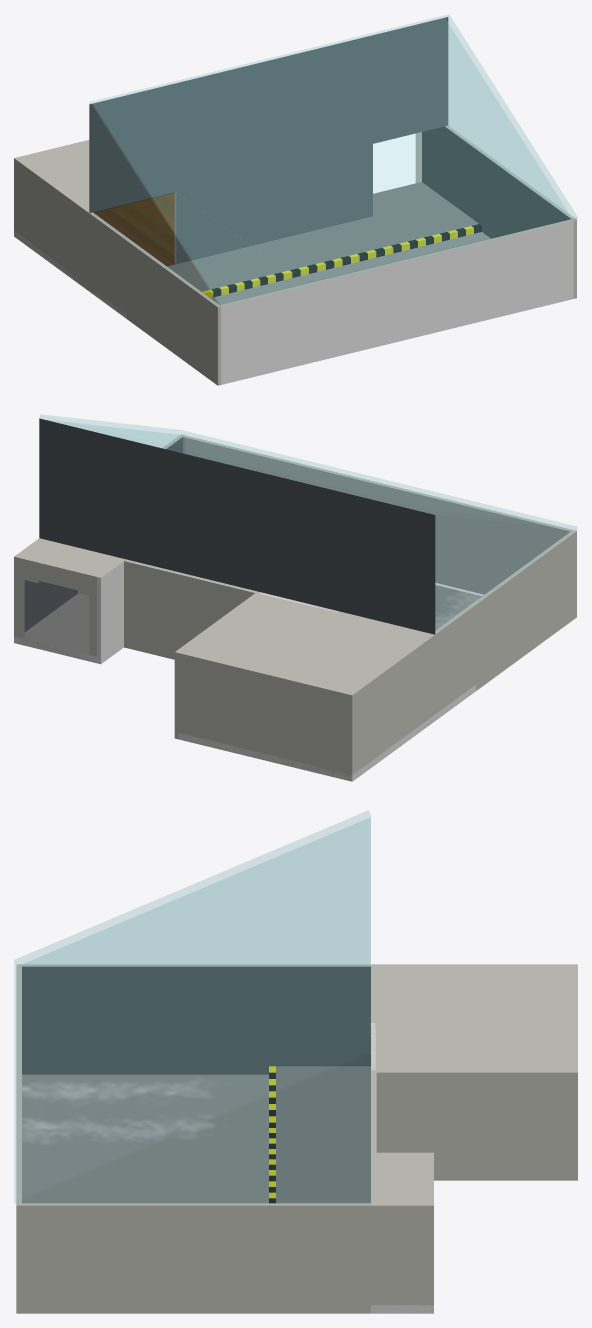
The model's file is GarageWorkshop.glb.
The picture shows the model from 3 angles, top to bottom: view 1: azimuth 30°, elevation 25°; view 2: azimuth 150°, elevation 25°; view 3: azimuth 270°, elevation 25°; orthographic projection. The views are drawn at different scales.
Visible parts, largest first — view 1: Cube-col, Window-col, Cube.001; view 2: Cube-col, Window-col, Cube.001; view 3: Cube-col, Window-col.
Part boxes in pixels (<box>): Cube-col: <box>14,17,576,385</box>; Window-col: <box>90,14,577,306</box>; Cube.001: <box>221,220,573,384</box>; Cube-col: <box>14,418,576,781</box>; Window-col: <box>40,414,577,633</box>; Cube.001: <box>185,437,570,594</box>; Cube-col: <box>16,964,577,1313</box>; Window-col: <box>14,810,370,1205</box>.
Size of the model in its own units: 20.15 by 10.2 by 19.9.
Materials: 13 (1 with a texture image).
